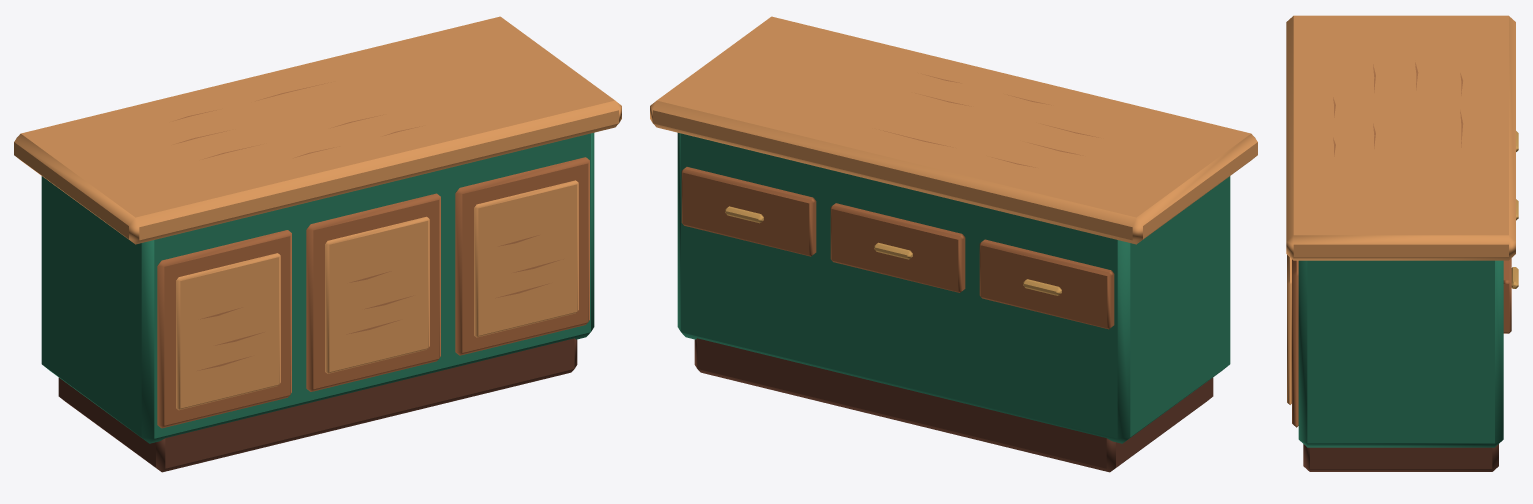
File: counter.glb
3 renders of one model, left to right at view 1: azimuth 30°, elevation 25°; view 2: azimuth 150°, elevation 25°; view 3: azimuth 270°, elevation 25°, orthographic. The views are drawn at different scales.
Visible parts, largest first — view 1: Counter; view 2: Counter; view 3: Counter.
Part boxes in pixels (x1=…): Counter: x1=14, y1=16, x2=621, y2=472; Counter: x1=650, y1=16, x2=1257, y2=472; Counter: x1=1286, y1=15, x2=1518, y2=471.
Bounding box in the file's own units: 1.72 × 0.901 × 0.7485.
